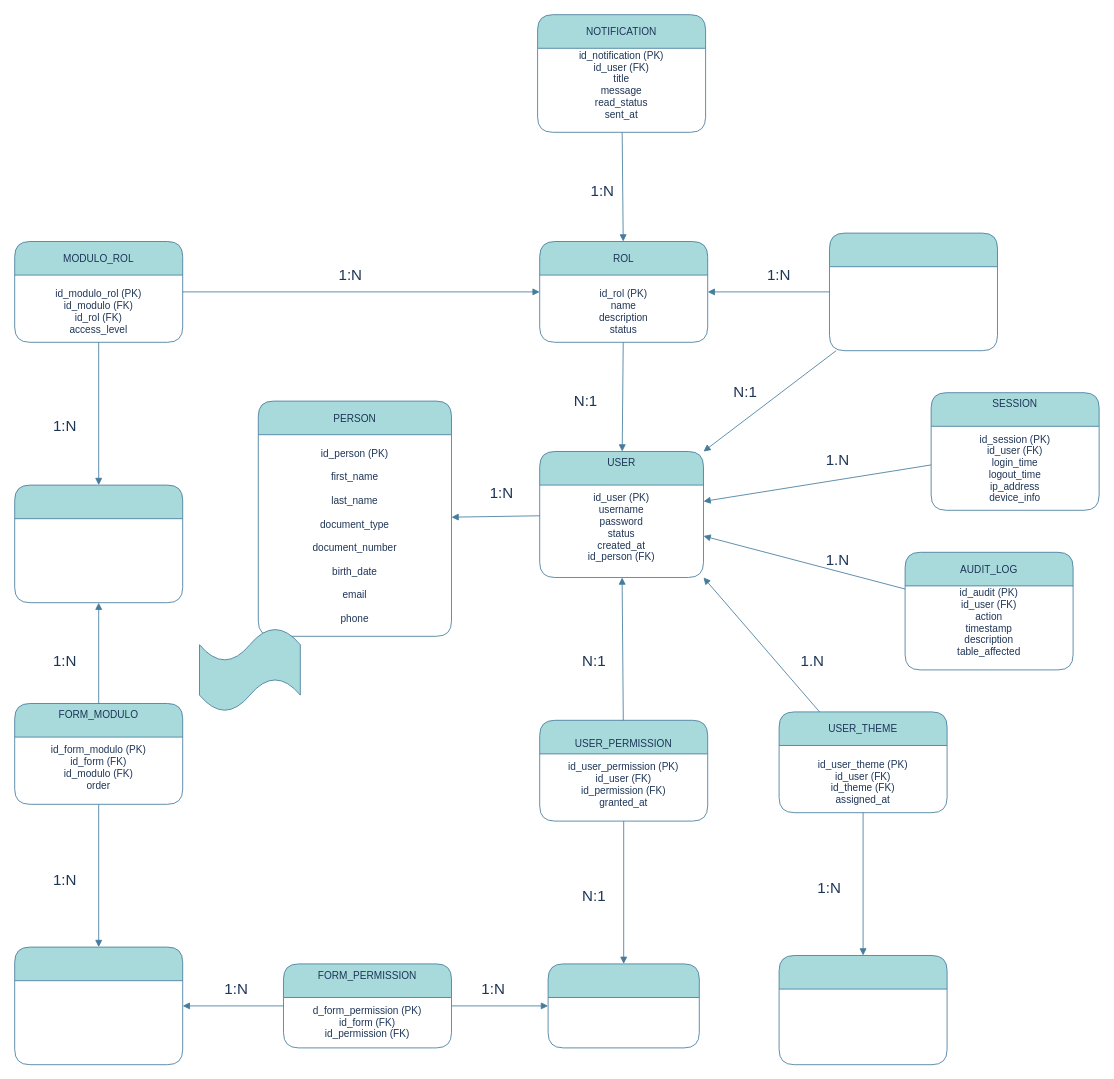
This 1114x1079 diagram has some shape labels left out. The shapes that lost their labels are listed below. From the top down, each one's centre as x and y in pixels, then its label:
At (x=913, y=291): "ROL_USER id_rol_user (PK) id_user (FK) id_rol (FK) assigned_at".
At (x=98, y=543): "MODULO id_modulo (PK) name description icon status".
At (x=98, y=1005): "FORM id_form (PK) name url description status".
At (x=623, y=1005): "PERMISSION id_permission (PK) name description".
At (x=862, y=1010): "THEME id_theme (PK) name primary_color secondary_color is_dark_mode".
